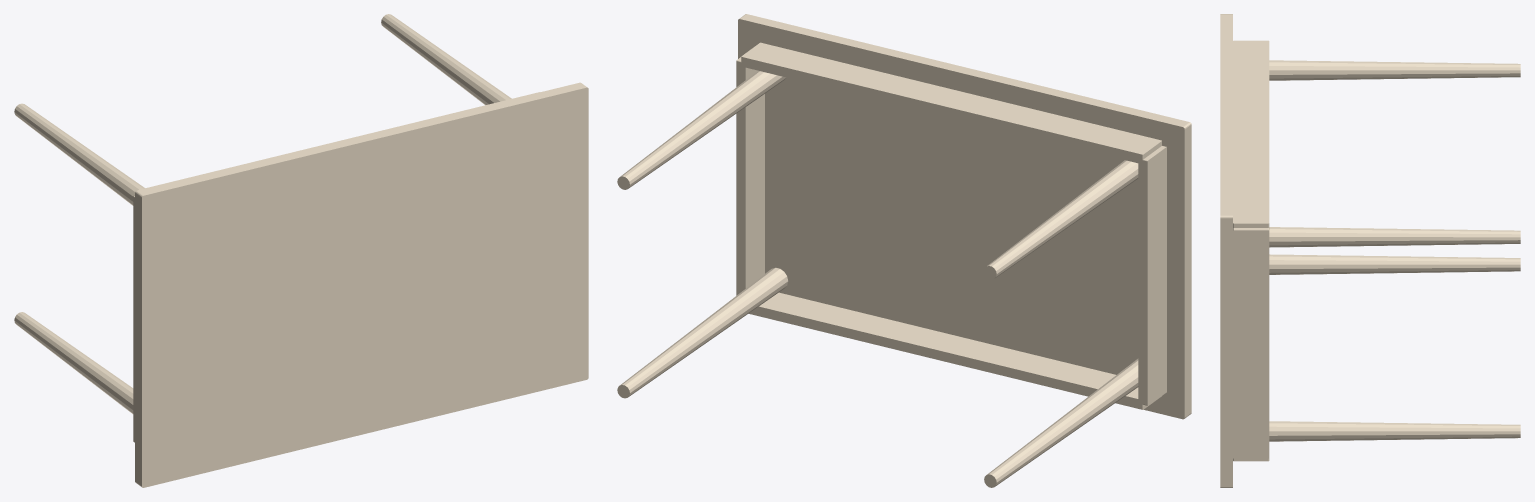
Rendered from dining_table.glb.
3 renders of one model, left to right at view 1: azimuth 30°, elevation 25°; view 2: azimuth 150°, elevation 25°; view 3: azimuth 270°, elevation 25°, orthographic. The views are drawn at different scales.
Parts seen in each view (by area): view 1: top, leg_6, leg, leg_8; view 2: top, apron_2, apron, apron_3, apron_4, leg_7, leg_8, leg, leg_6; view 3: apron_4, apron_2, top, leg_6, leg_7, leg, leg_8.
Part boxes in pixels (x1=…): top: x1=135, y1=82, x2=588, y2=487; leg_6: x1=14, y1=103, x2=144, y2=205; leg: x1=14, y1=312, x2=133, y2=413; leg_8: x1=381, y1=14, x2=511, y2=105; top: x1=738, y1=14, x2=1191, y2=419; apron_2: x1=741, y1=42, x2=1161, y2=164; apron: x1=748, y1=292, x2=1161, y2=409; apron_3: x1=1138, y1=146, x2=1166, y2=405; apron_4: x1=736, y1=57, x2=764, y2=295; leg_7: x1=617, y1=267, x2=788, y2=398; leg_8: x1=617, y1=70, x2=786, y2=189; leg: x1=984, y1=358, x2=1138, y2=487; leg_6: x1=984, y1=160, x2=1138, y2=279; apron_4: x1=1233, y1=228, x2=1269, y2=458; apron_2: x1=1233, y1=40, x2=1269, y2=227; top: x1=1220, y1=14, x2=1232, y2=487; leg_6: x1=1269, y1=60, x2=1520, y2=80; leg_7: x1=1269, y1=421, x2=1520, y2=441; leg: x1=1269, y1=254, x2=1520, y2=274; leg_8: x1=1269, y1=227, x2=1520, y2=247.
Bounding box in the file's own units: 1.2 × 0.75 × 0.75.
